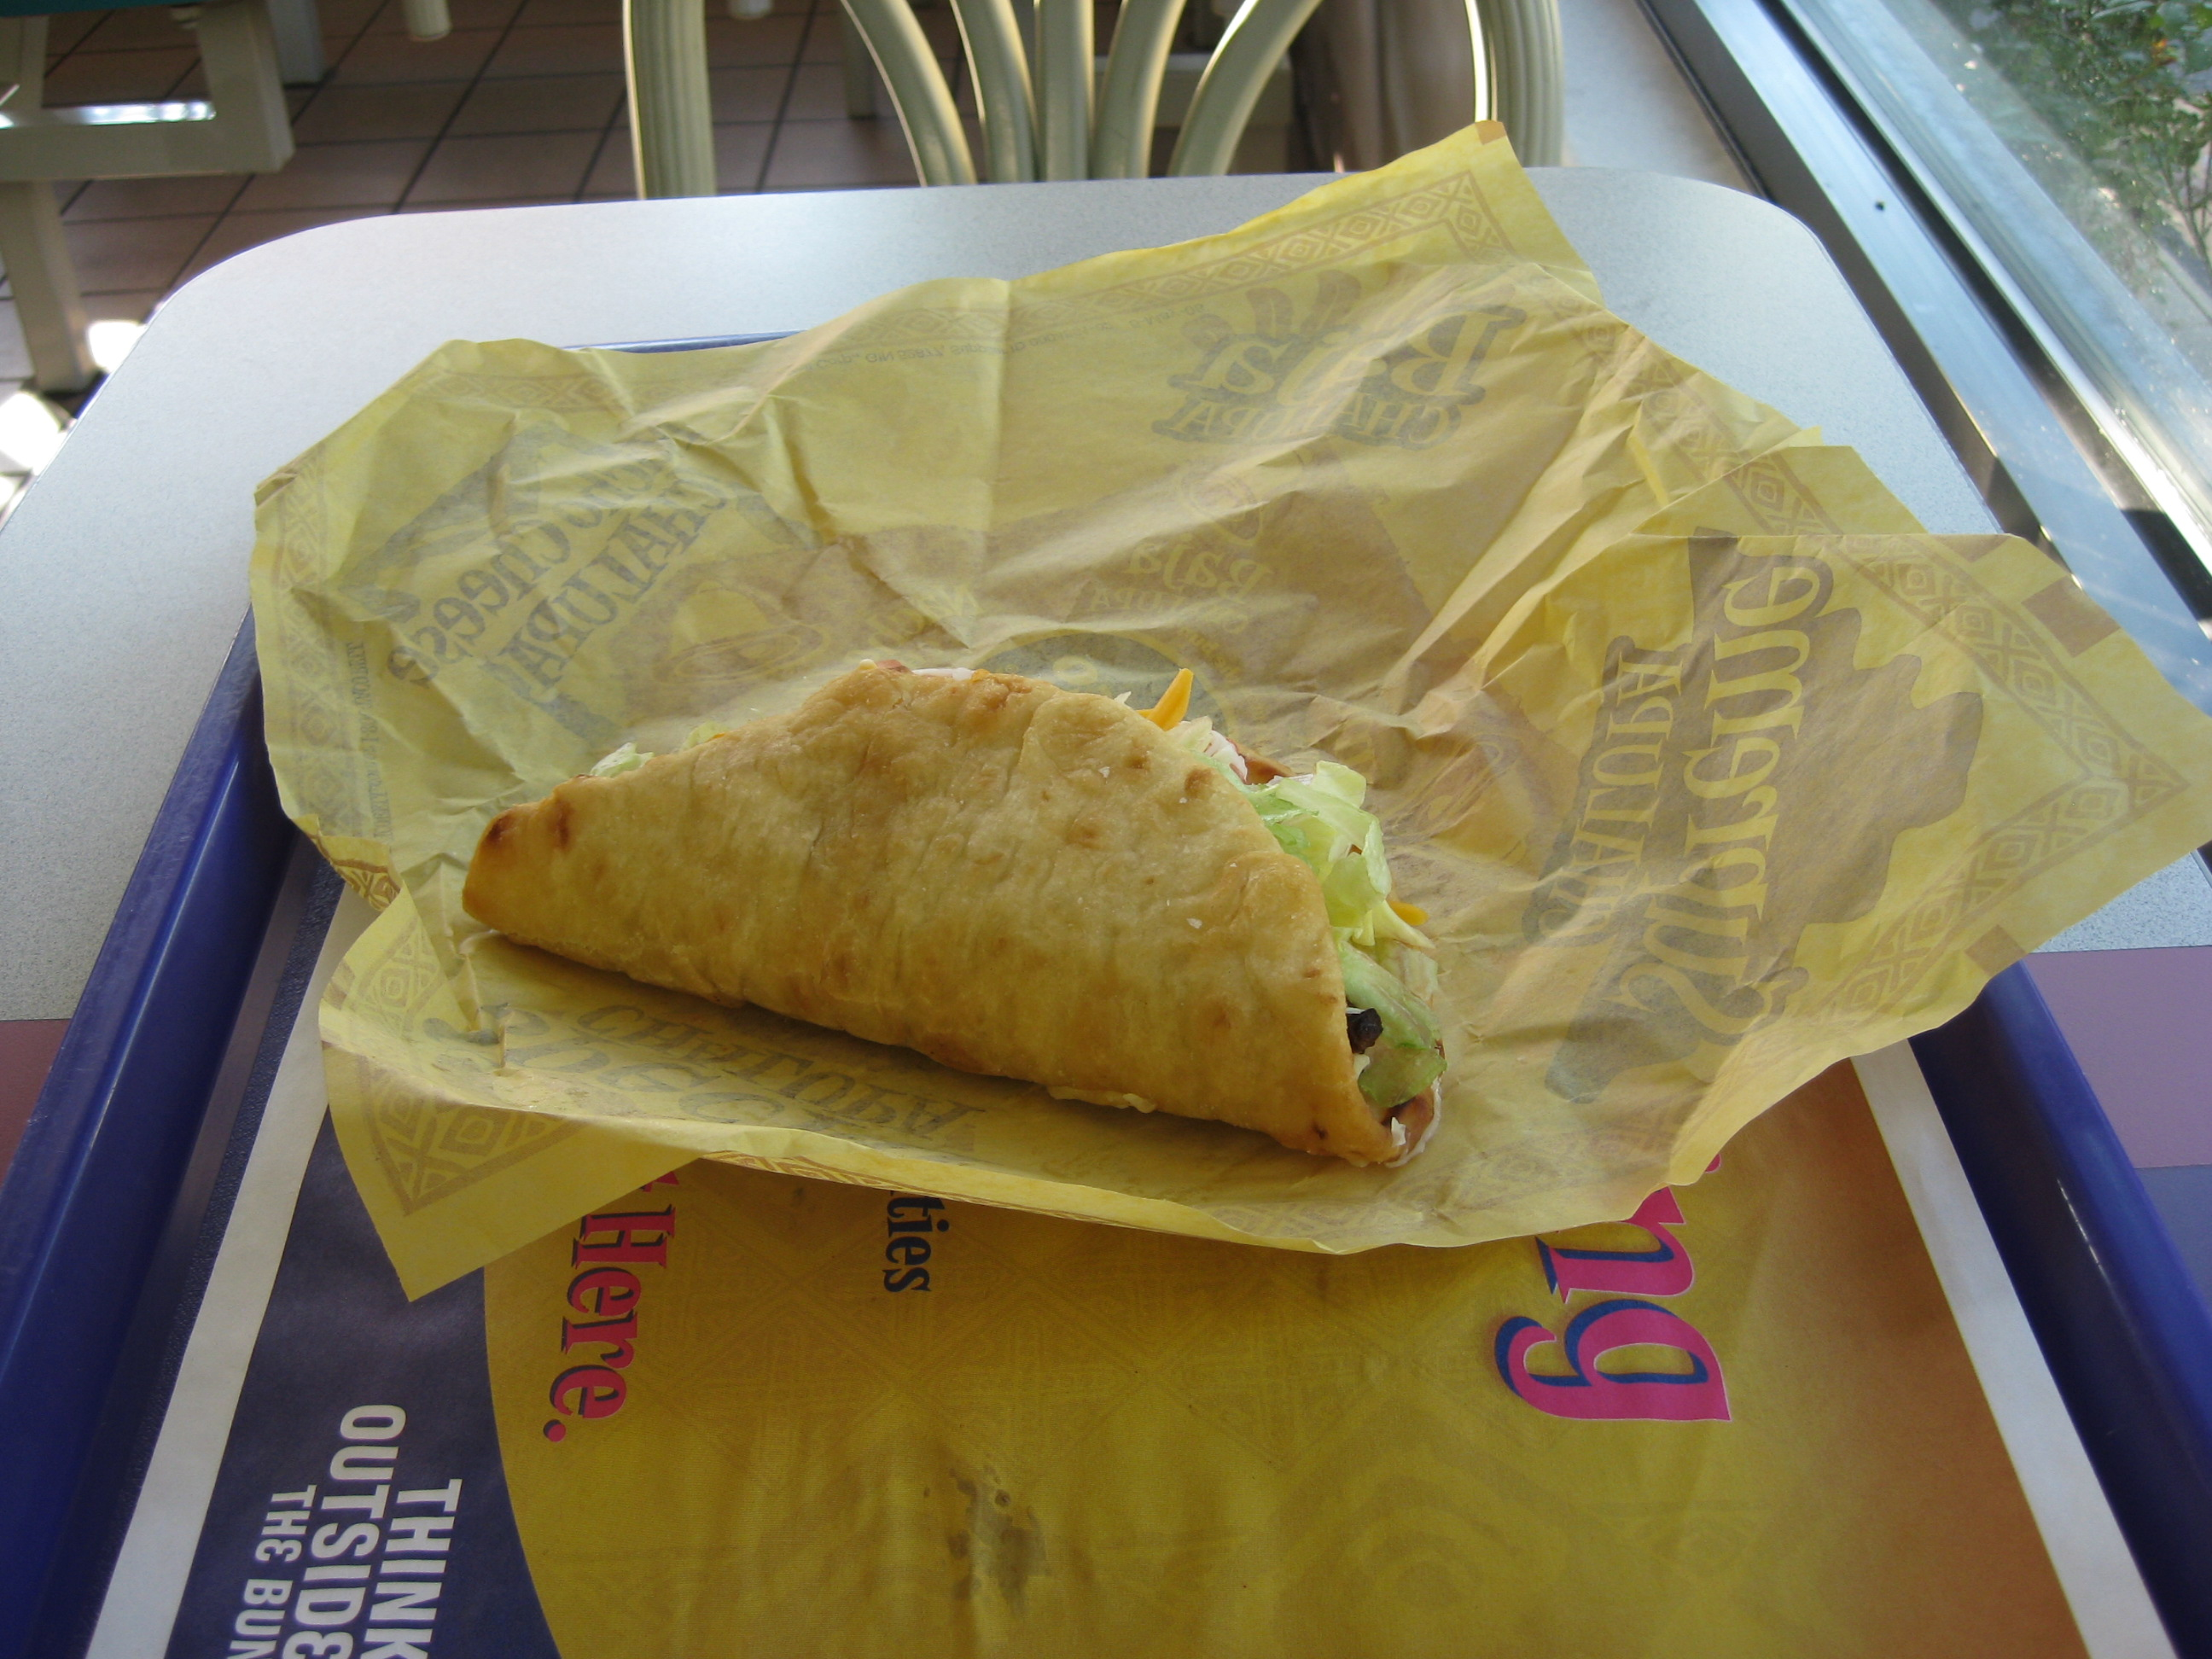taco: (436, 658, 1502, 1200)
